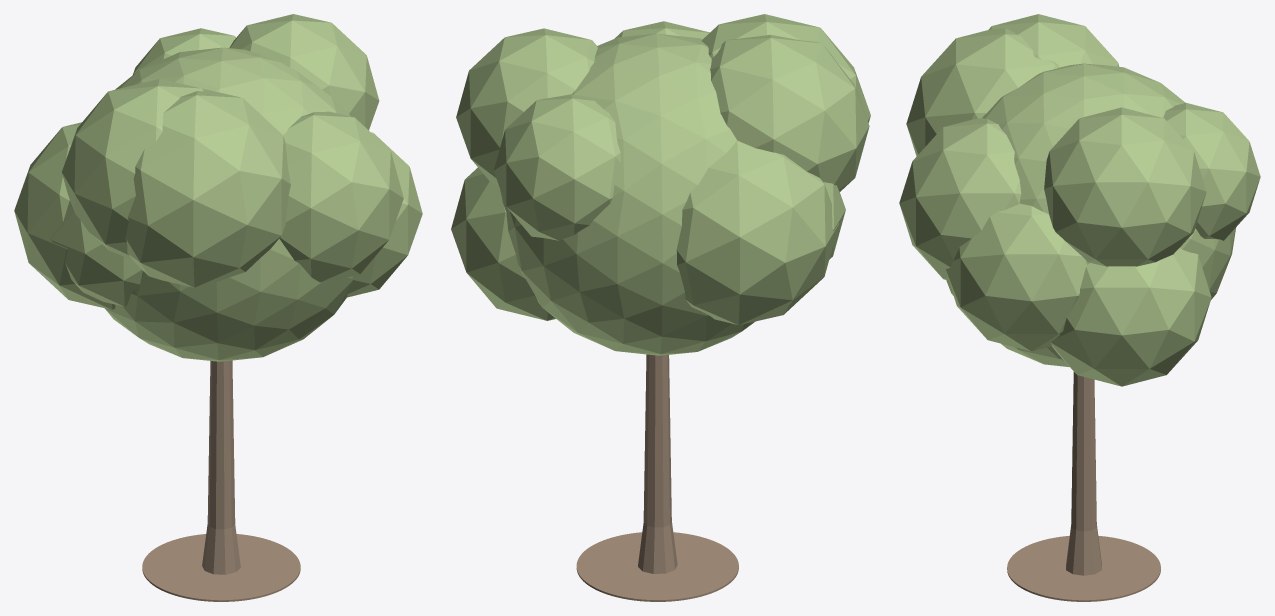
Rendered from tree_b.glb.
3 renders of one model, left to right at view 1: azimuth 30°, elevation 25°; view 2: azimuth 150°, elevation 25°; view 3: azimuth 270°, elevation 25°, orthographic. The views are drawn at different scales.
Parts seen in each view (by area): view 1: tree_b_leaf2, tree_b_soil, tree_b_bark; view 2: tree_b_leaf2, tree_b_soil, tree_b_bark; view 3: tree_b_leaf2, tree_b_soil, tree_b_bark.
Part boxes in pixels (box(x1,y1,x2,y2)): tree_b_leaf2: box(14, 14, 422, 361); tree_b_soil: box(142, 534, 300, 601); tree_b_bark: box(202, 360, 240, 574); tree_b_leaf2: box(451, 14, 870, 355); tree_b_soil: box(576, 532, 738, 601); tree_b_bark: box(638, 354, 677, 573); tree_b_leaf2: box(899, 14, 1260, 386); tree_b_soil: box(1007, 536, 1160, 601); tree_b_bark: box(1066, 372, 1101, 575).
Bounding box in the file's own units: 4.07 × 5.81 × 3.76.
